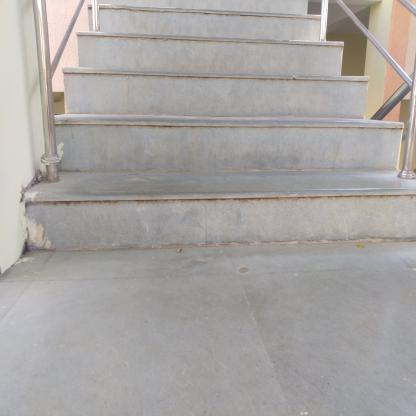stairs: (77, 28, 320, 265)
